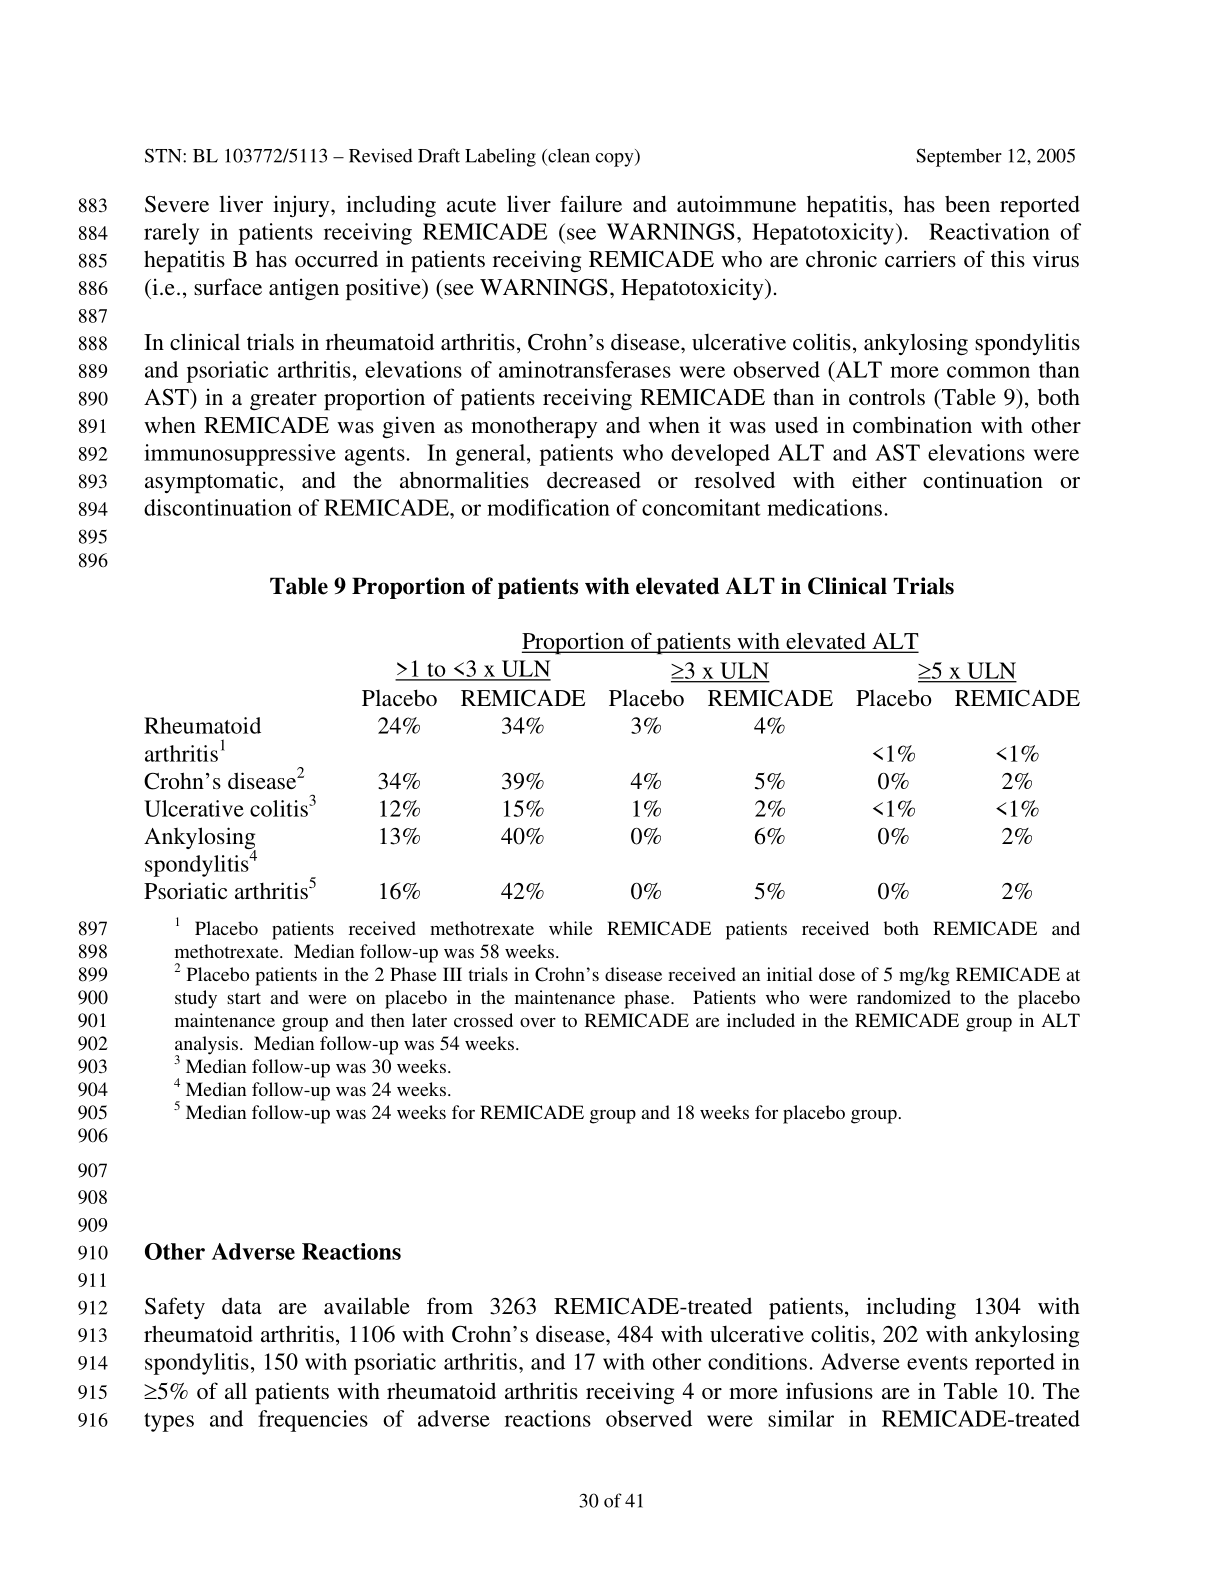nolines: (141, 629, 1085, 901)
